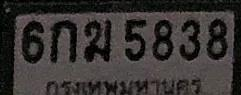3: (179, 19, 200, 60)
5: (125, 19, 146, 60)
6: (22, 20, 44, 63)
8: (152, 19, 173, 60), (207, 18, 226, 59)
A01: (50, 20, 77, 63)
A06: (84, 20, 112, 62)
BKK: (44, 76, 204, 95)
